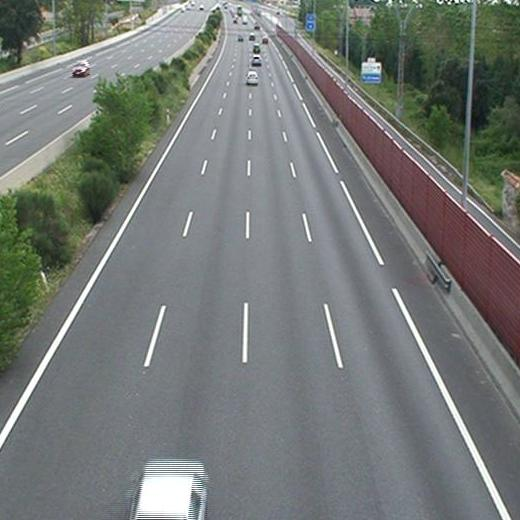car: (246, 71, 259, 85), (251, 55, 261, 64)
